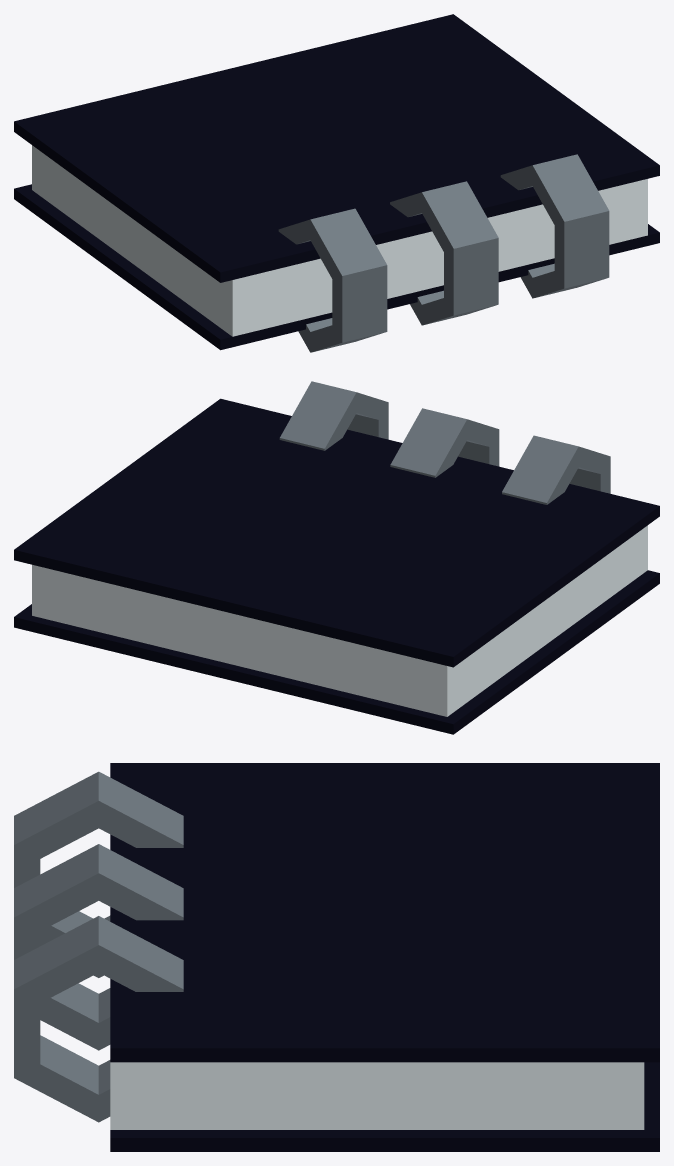
Rendered from Theftable_SpiralNotebook.fbx.
The picture shows the model from 3 angles, top to bottom: view 1: azimuth 30°, elevation 25°; view 2: azimuth 150°, elevation 25°; view 3: azimuth 270°, elevation 25°; orthographic projection. The views are drawn at different scales.
Visible parts, largest first — view 1: Cube.300; view 2: Cube.300; view 3: Cube.300.
Boxes of the visible parts, x1,y1,x2,y2 form: Cube.300: (14,14,659,352); Cube.300: (14,381,659,734); Cube.300: (14,763,659,1151).
Bounding box in the file's own units: 26.27 × 7.62 × 25.13.
